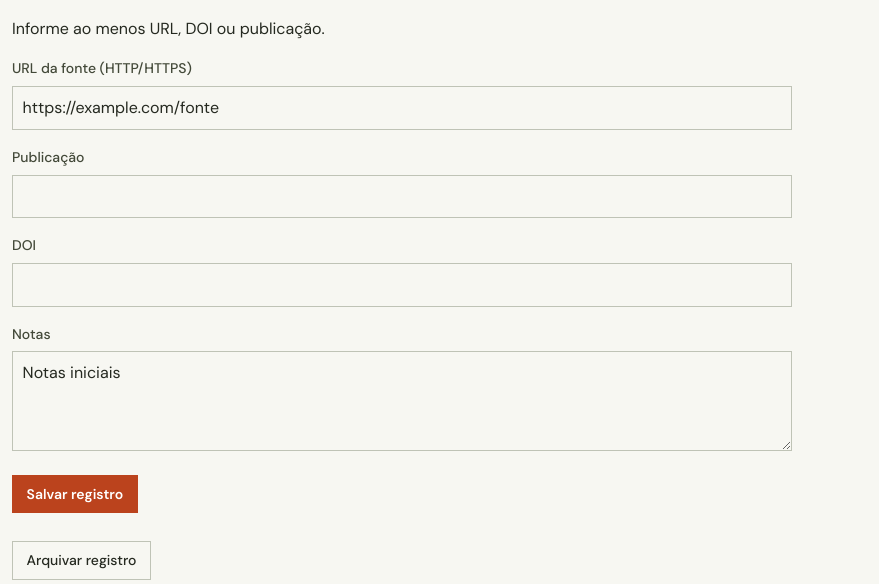
preserva rascunho no 409 e exige comparação antes de PATCH com versão atual
This screenshot has width=879, height=584.
(page scrolled)
Clear the text box labelled "Notas": (402, 401) [12,351,792,451]
(page scrolled)
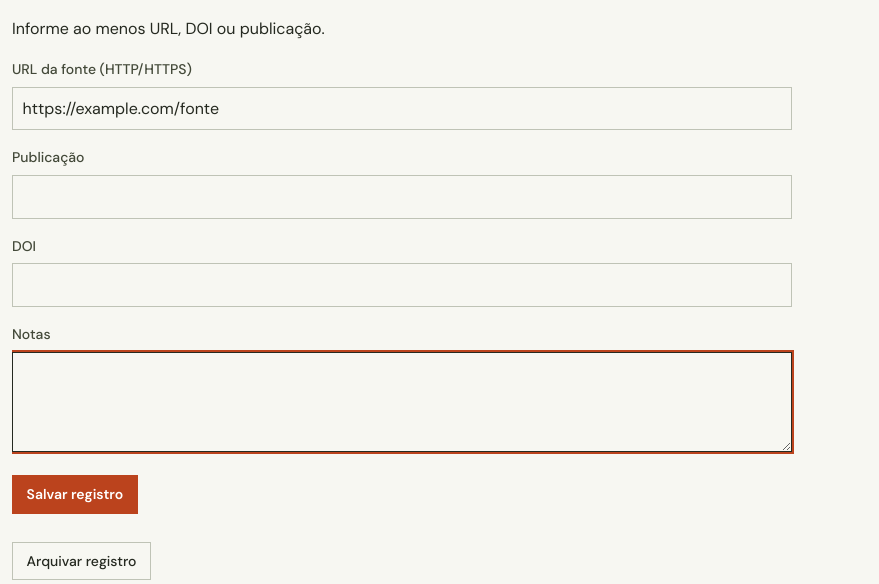
In the text box labelled "Notas": (402, 402) [12,352,792,452], type "Meu rascunho"
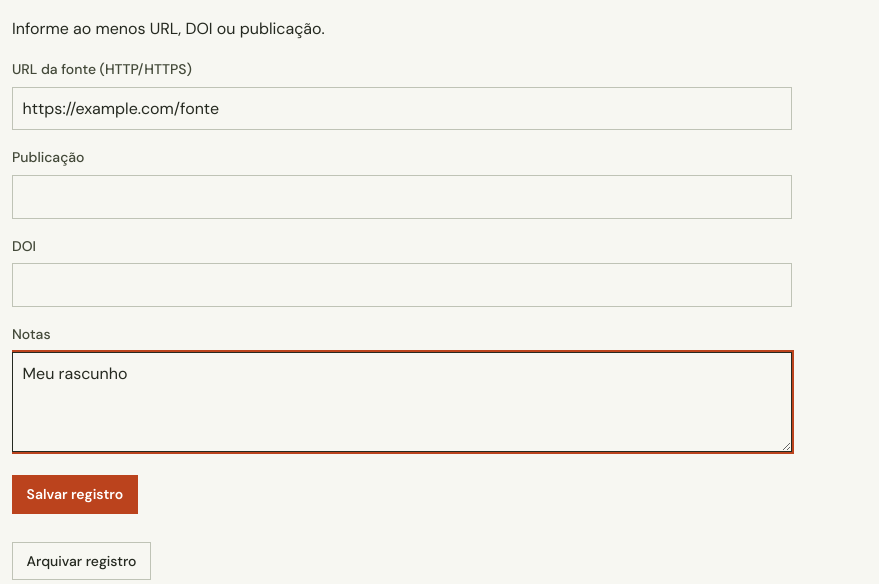
Click the button "Salvar registro": (75, 495) [12,475,138,514]
(page scrolled)
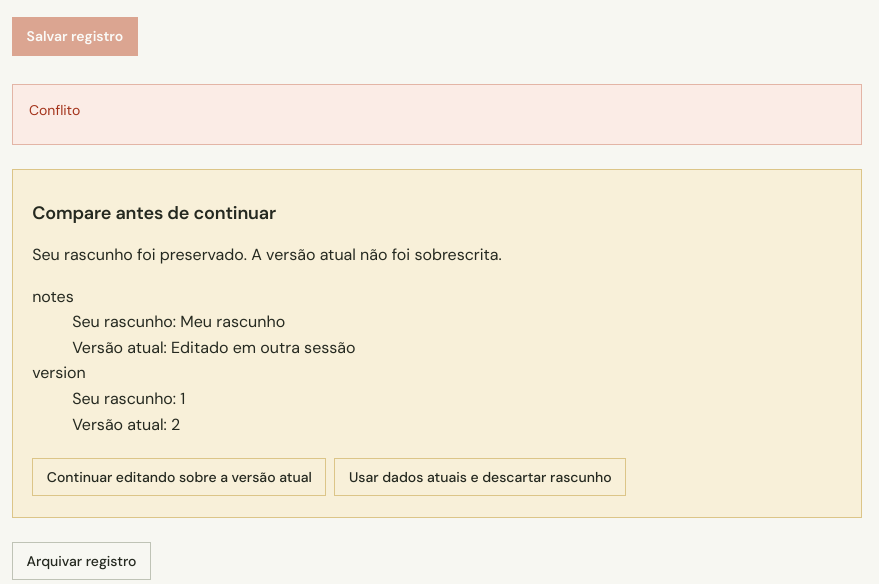
Check: the button "Salvar registro" is disabled, box [12,17,138,56]
Check: the element named "Conflito de edição" shows "Editado em outra sessão", box [171,337,356,358]
Click the button "Continuar editando sobre a versão atual": (179, 477) [32,458,326,496]
(page scrolled)
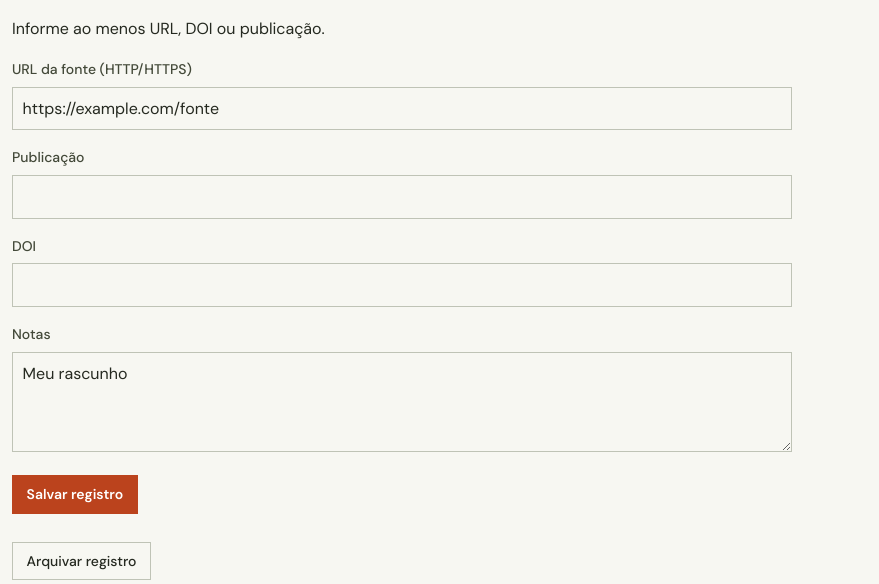
Click the button "Salvar registro": (75, 495) [12,475,138,514]
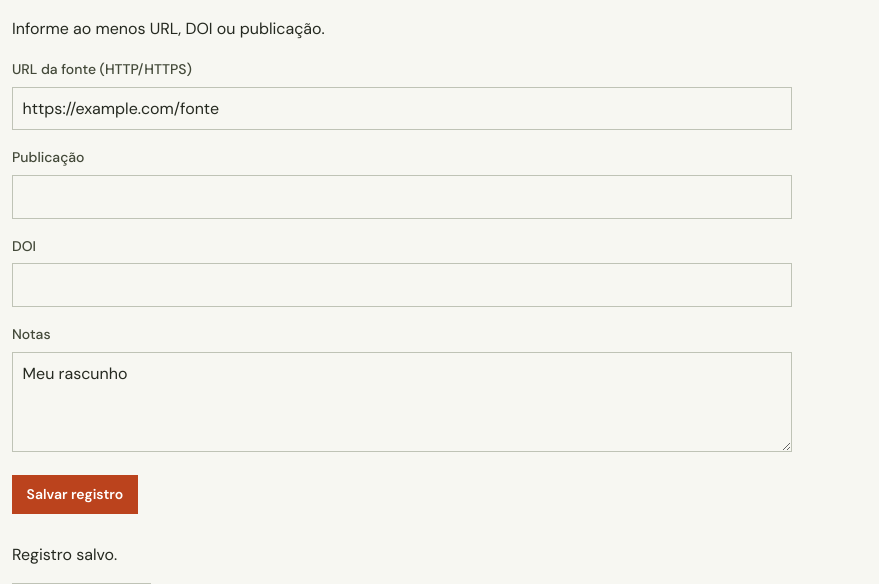
Check: the message reads "Registro salvo.", box [12,544,117,565]
